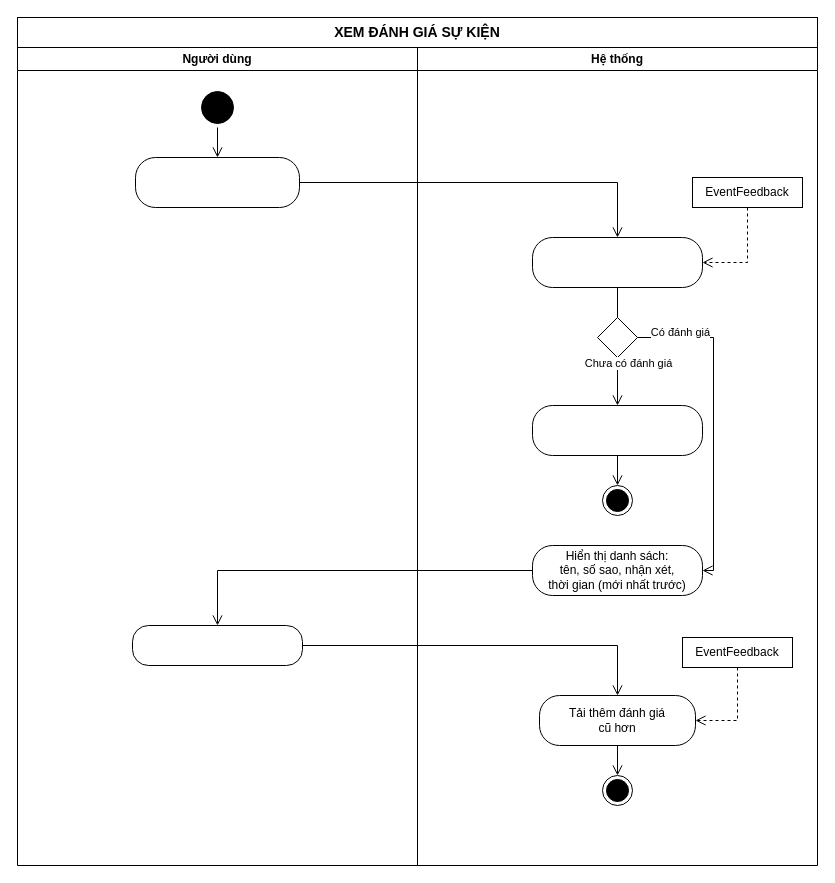
Image size: 835x883. Some labels were removed from this diagram. The centre of each missing label's shape, as x and y in pixels:
"(Tuỳ chọn) Nhấn 'Xem thêm'" goes at point (217, 645).
"Cuộn đến khối 'Đánh giá sự kiện'" goes at point (217, 182).
"Hiển thị: 'Chưa có đánh giá nào cho sự kiện này'" goes at point (617, 430).
"Tải danh sách đánh giá của sự kiện" goes at point (617, 262).
